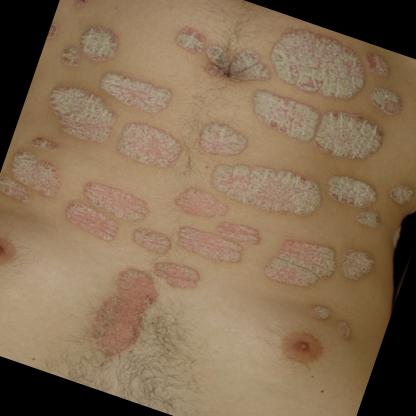Psoriasis: (261, 17, 381, 117), (197, 146, 329, 230), (81, 256, 172, 376), (254, 224, 344, 302), (306, 106, 390, 175), (238, 82, 327, 146), (195, 34, 278, 96), (92, 66, 180, 122), (114, 119, 190, 178), (168, 221, 252, 273), (0, 146, 73, 202), (78, 178, 154, 228), (186, 114, 254, 168), (164, 179, 236, 229), (51, 197, 122, 246), (142, 252, 214, 298), (316, 169, 381, 217), (73, 18, 129, 72), (333, 241, 384, 291), (210, 216, 267, 256), (360, 83, 412, 126), (119, 222, 177, 260), (354, 44, 402, 80), (167, 20, 208, 58), (380, 175, 416, 214), (0, 171, 33, 207), (350, 206, 387, 235), (27, 131, 60, 157), (304, 300, 334, 324), (332, 314, 355, 342)
